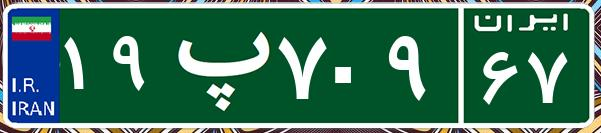0: (330, 28, 385, 110)
1: (57, 26, 110, 107)
6: (475, 38, 525, 113)
7: (273, 28, 330, 110), (525, 38, 570, 115)
9: (385, 28, 445, 110), (110, 28, 158, 105)
پ: (158, 15, 273, 115)
